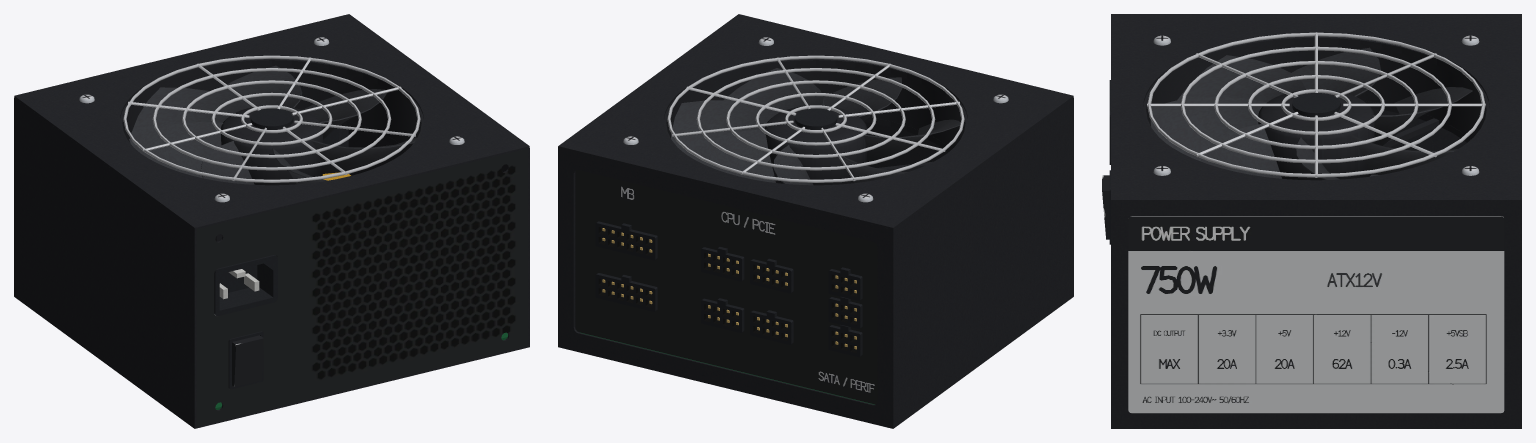
Rendered from psu-atx-cc0.glb.
3 views of the same model, side by side, from view 1: azimuth 30°, elevation 25°; view 2: azimuth 150°, elevation 25°; view 3: azimuth 270°, elevation 25° (orthographic). The views are drawn at different scales.
Parts seen in each view (by area): view 1: Steel housing, 120 mm fan blades, 120 mm fan frame, Fan finger guard, AC inlet (IEC C14), Rocker switch, Fan screws; view 2: Steel housing, Modular connector board, 120 mm fan blades, 120 mm fan frame, Fan finger guard, AC inlet (IEC C14), Modular sockets, Modular socket pins, Fan screws; view 3: Side label, Steel housing, 120 mm fan blades, 120 mm fan frame, Fan finger guard, AC inlet (IEC C14), Fan screws, 120 mm fan hub, Rocker switch.
Part boxes in pixels (x1,y1,x2,y2): Steel housing: (14,14,529,428); 120 mm fan blades: (128,65,416,184); 120 mm fan frame: (120,59,423,255); Fan finger guard: (123,55,420,182); AC inlet (IEC C14): (214,108,339,389); Rocker switch: (232,335,263,386); Fan screws: (79,37,464,202); Steel housing: (558,14,1073,428); Modular connector board: (575,169,877,404); 120 mm fan blades: (670,68,960,185); 120 mm fan frame: (664,59,967,185); Fan finger guard: (667,55,964,182); AC inlet (IEC C14): (595,108,862,357); Modular sockets: (598,227,856,353); Modular socket pins: (602,228,856,349); Fan screws: (623,37,1008,202); Side label: (1128,216,1504,413); Steel housing: (1111,14,1521,428); 120 mm fan blades: (1150,47,1472,179); 120 mm fan frame: (1143,36,1489,180); Fan finger guard: (1147,32,1485,177); AC inlet (IEC C14): (1109,80,1340,244); Fan screws: (1153,35,1479,175); 120 mm fan hub: (1280,99,1352,126); Rocker switch: (1102,175,1109,239).
Size of the model in its own units: 0.1501 by 0.0875 by 0.143.
Materials: 20 (19 with a texture image).
